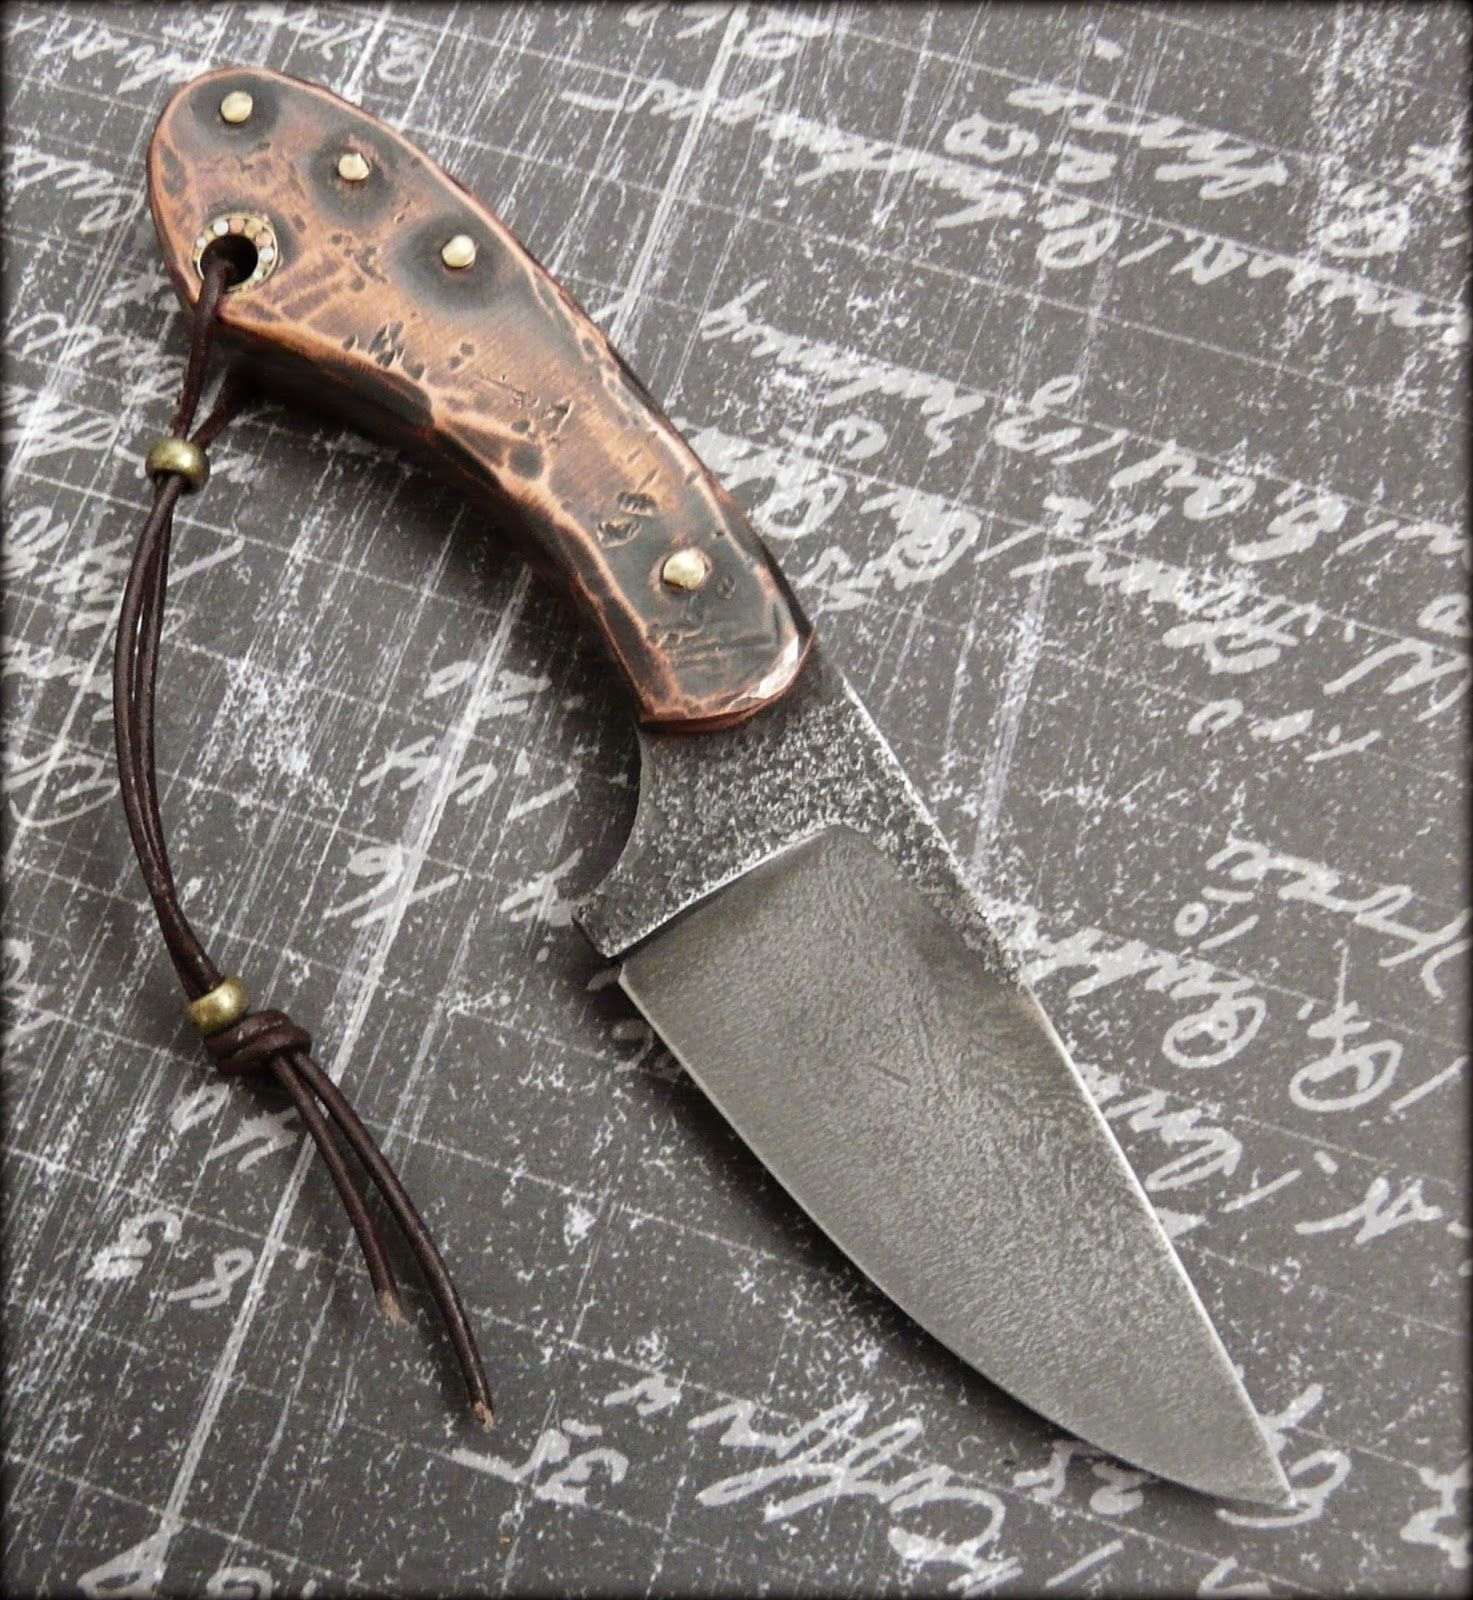knife: (130, 43, 1329, 1526)
